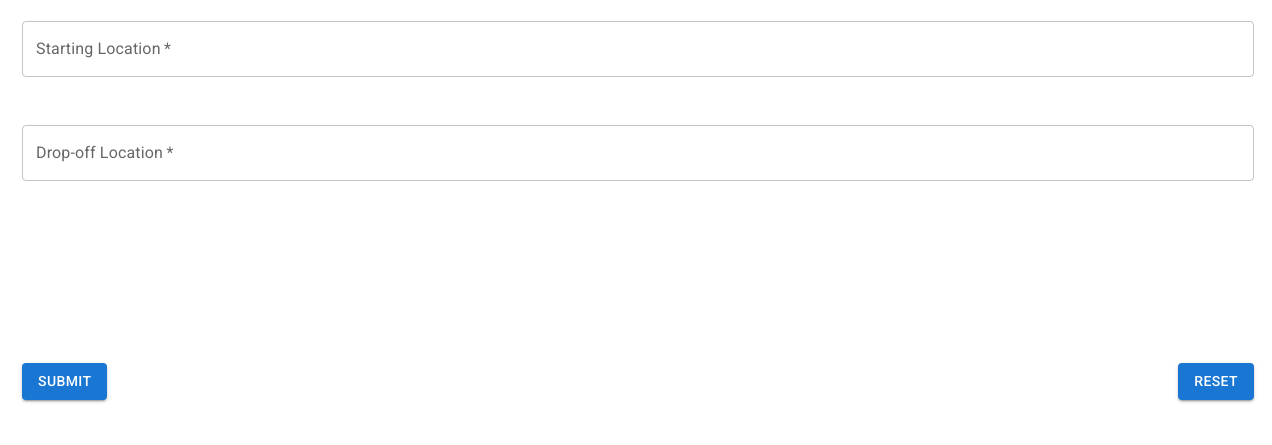
Test case: DrawerContent › shows an appropriate error if any of the inputs are empty when submitting
This screenshot has width=1272, height=445.
Expected: the dropdown labelled "Drop-off Location *" is shown, [31,134,1245,172]
Type "start" into the dropdown labelled "Starting Location *" at point(638, 49), box [31,30,1245,68]
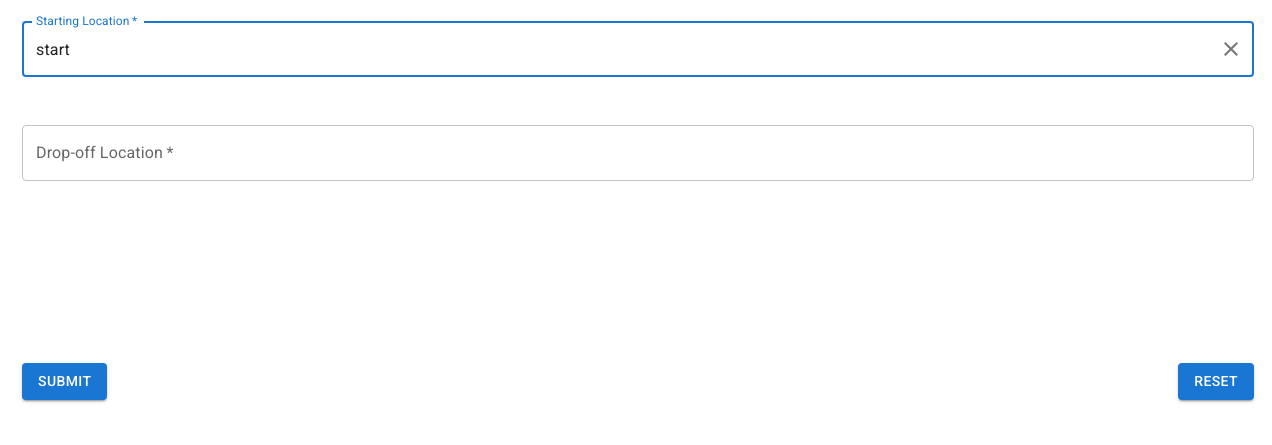
Expected: the dropdown labelled "Drop-off Location *" is empty, [31,134,1245,172]
Click the button with test id "submitButton" at point(65, 382), box [22,364,107,400]
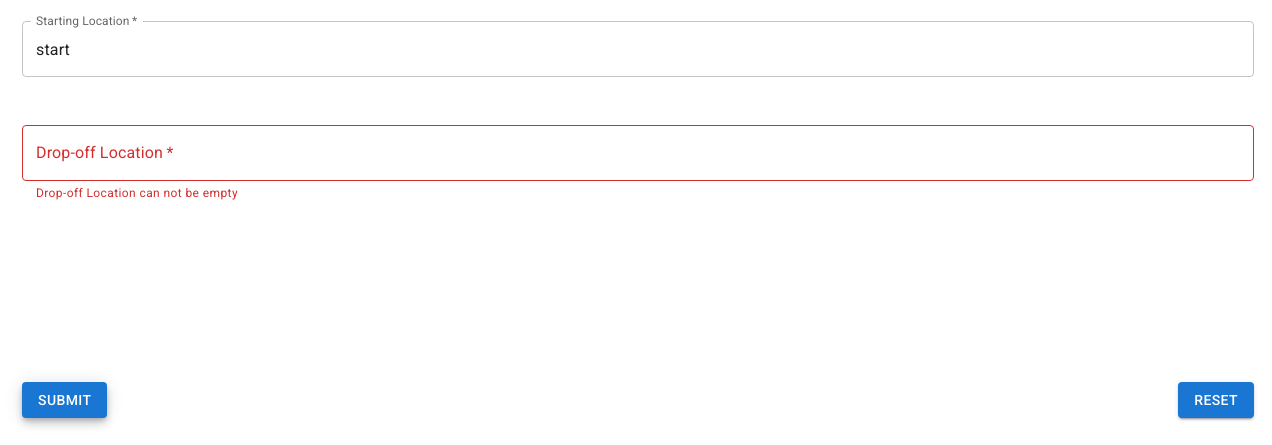
Expected: the element with test id "locationInputTextField" that starts with "Drop-off Location" is shown, [22,125,1254,204]
Expected: the element with test id "locationInputTextField" shows "can not be empty", [36,186,238,200]
